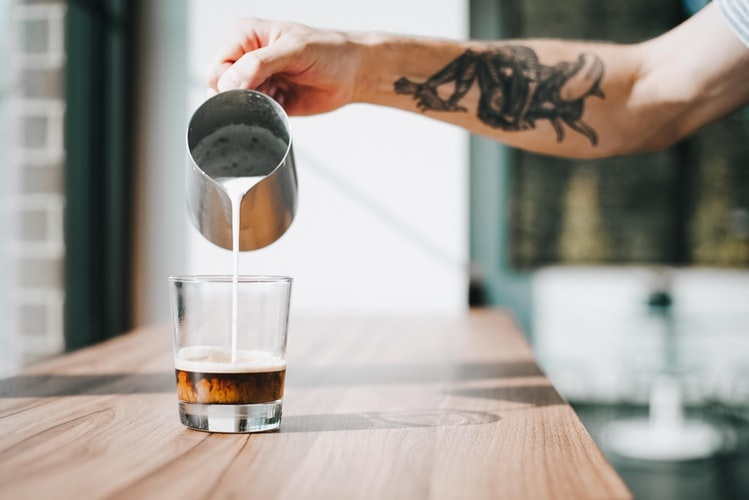whiskey: (173, 275, 283, 433)
